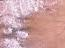plaque psoriasis: (0, 0, 60, 37), (0, 36, 38, 48)
